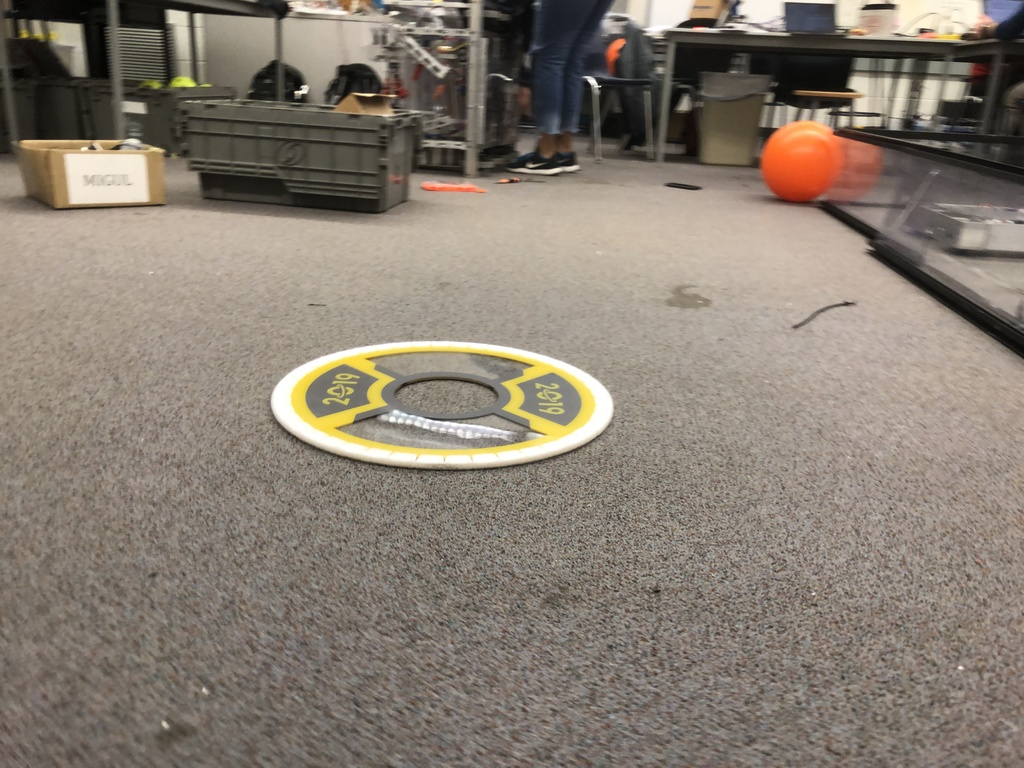hatch_panel: (262, 330, 632, 483)
